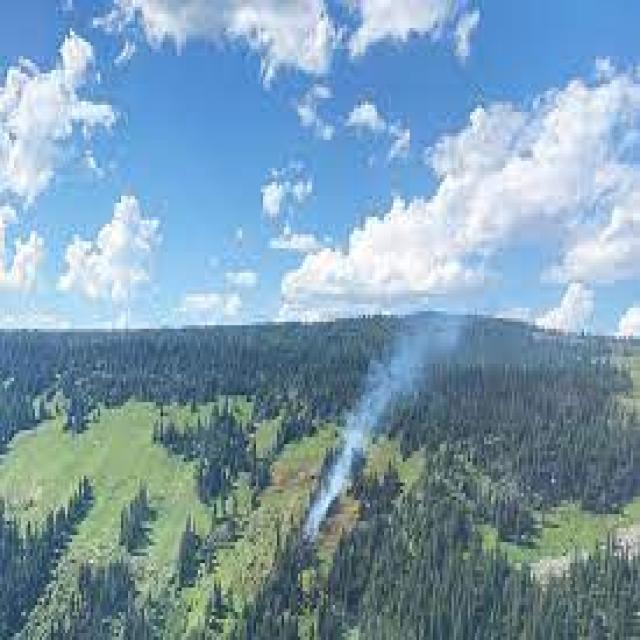Smoke: (296, 386, 389, 540)
